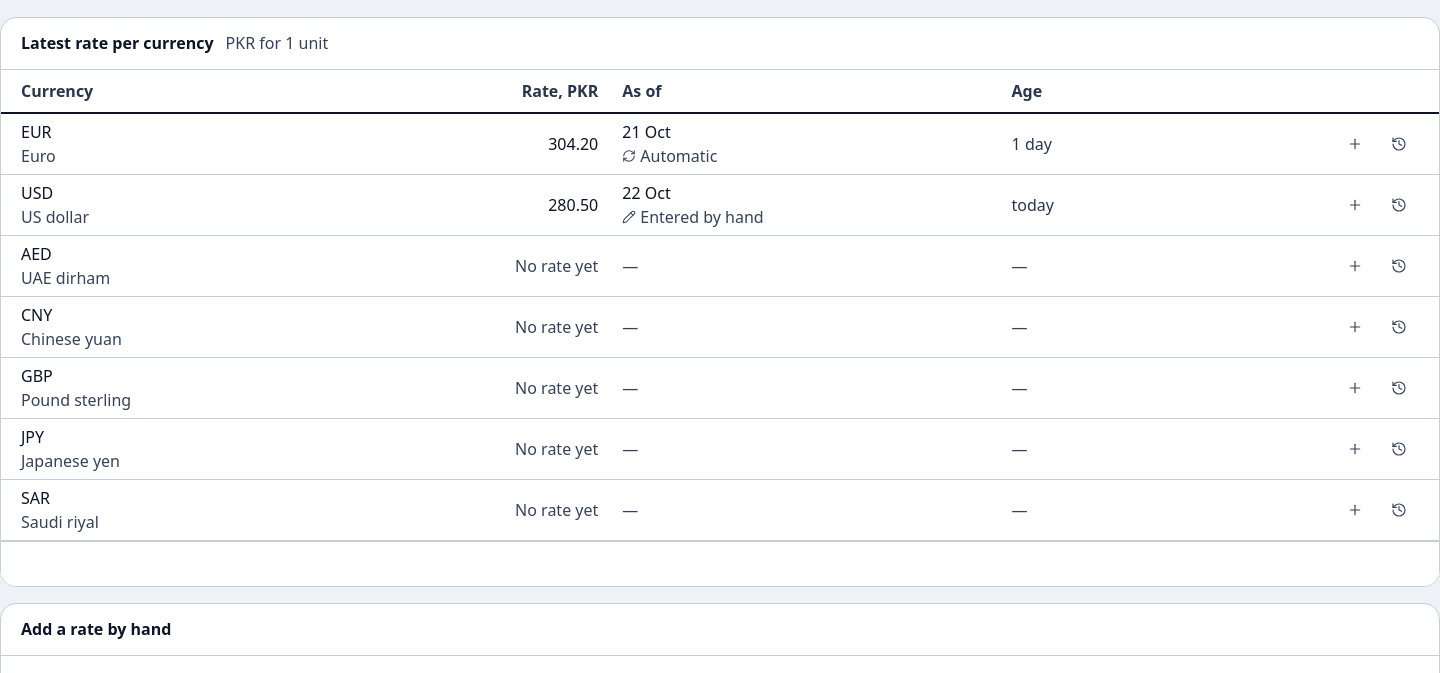
Test: Exchange rates (audit 2026-10-22) › a row's Add rate picks that currency in the form and puts the cursor in the rate
The width and height of the screenshot is (1440, 673).
Step 1. Click the button named "Add rate for EUR" → x=1355, y=144, box [1335,124,1375,164]
(page scrolled)
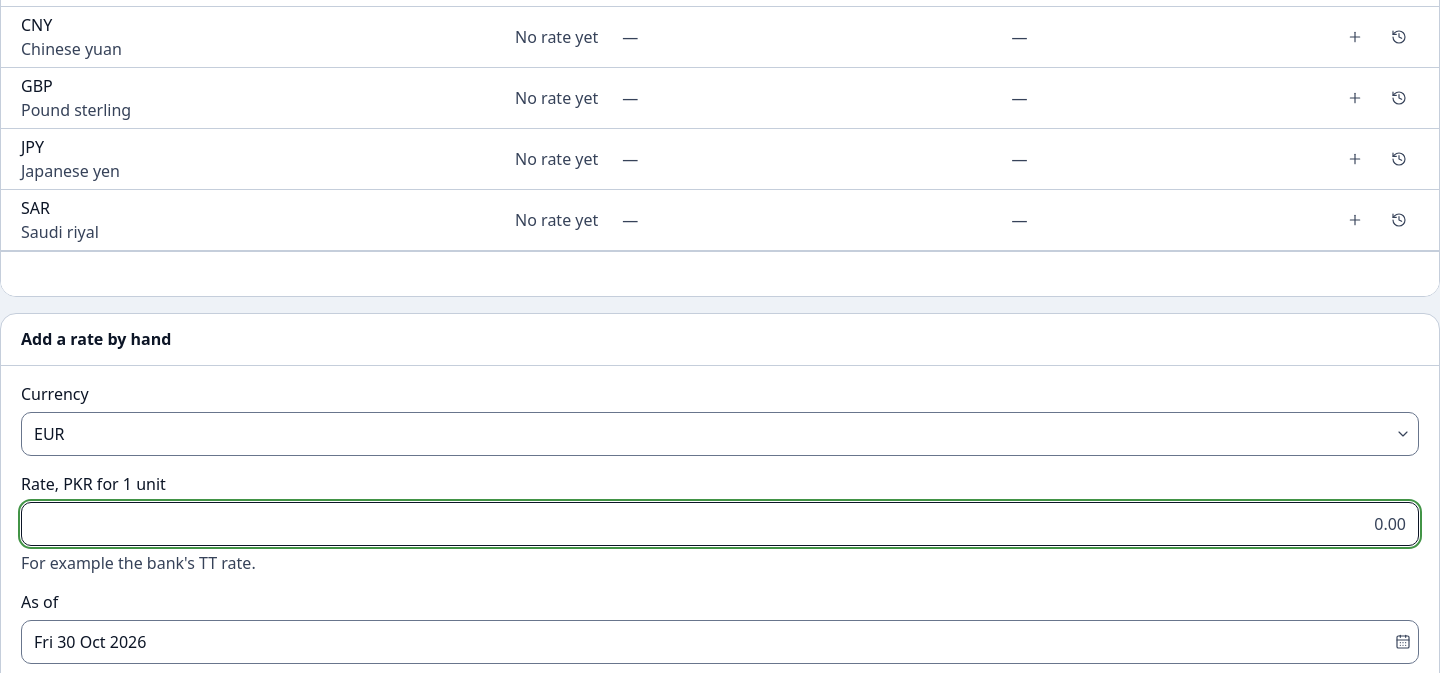
Check: the dropdown labelled "Currency" shows "EUR", box [21,412,1419,456]
